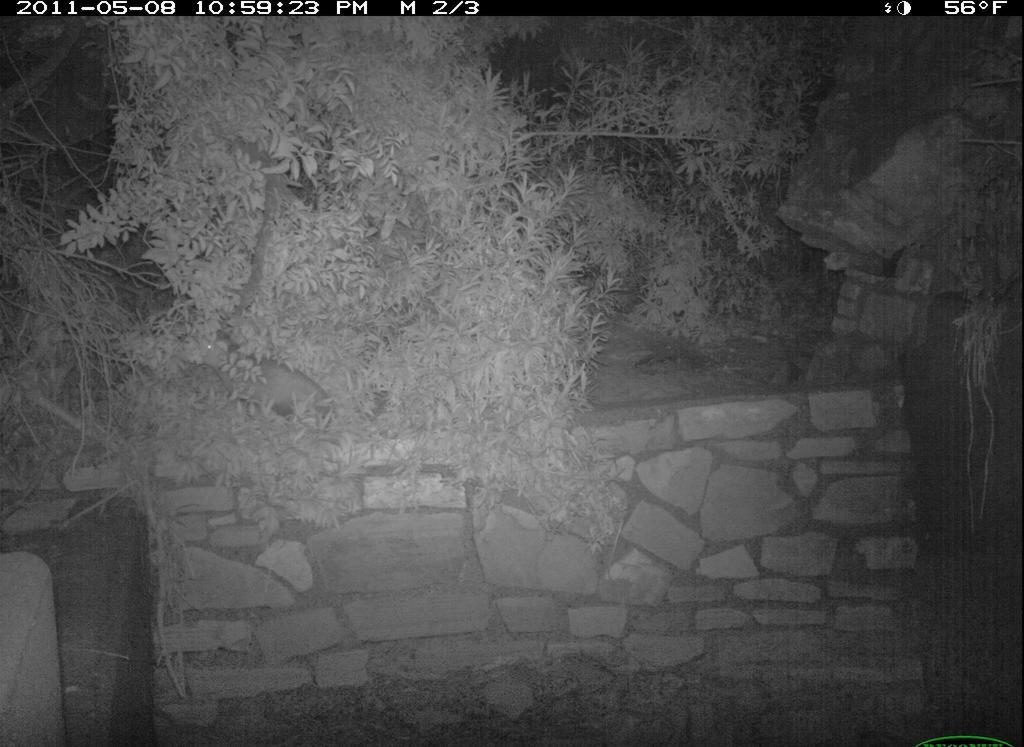opossum: (193, 335, 358, 427)
